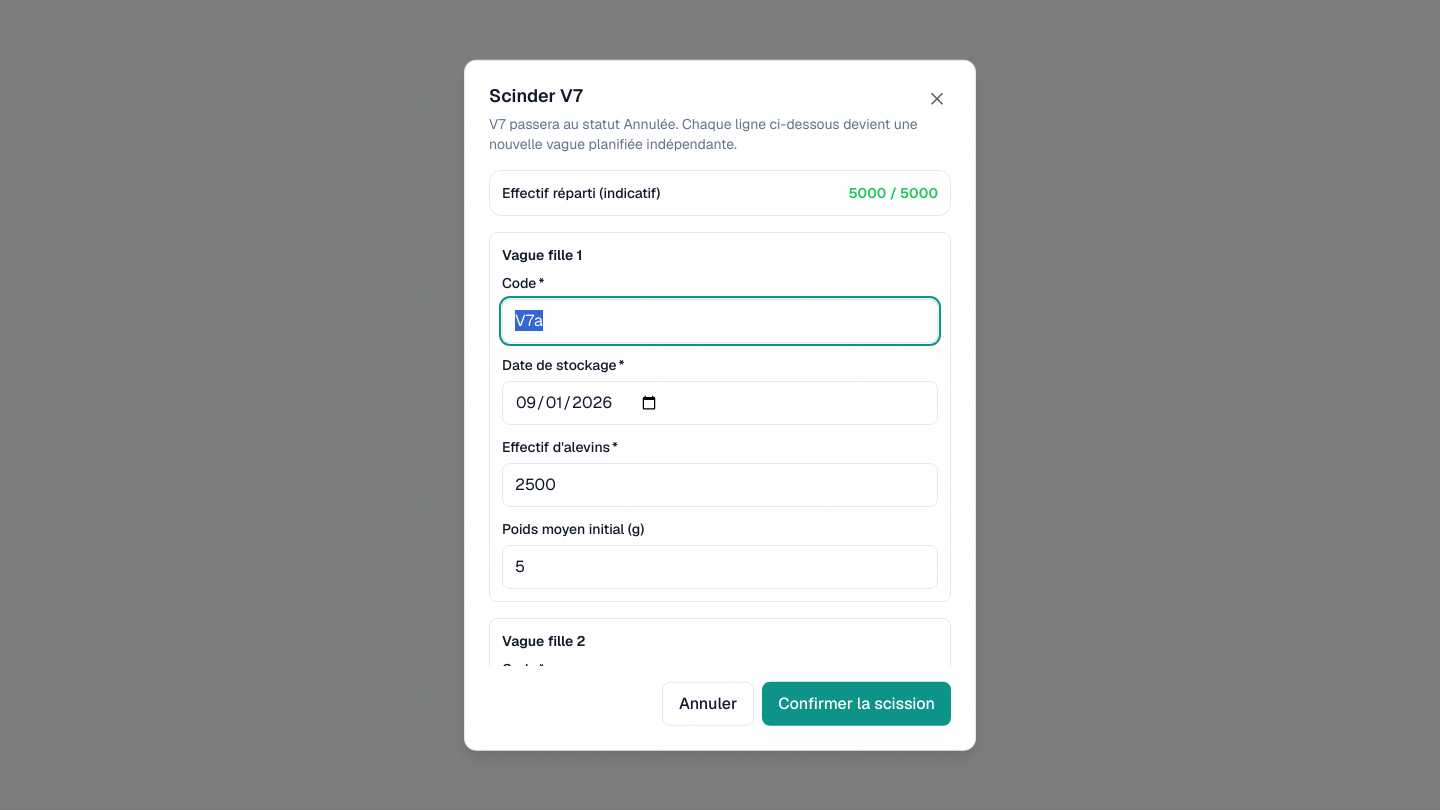
Test: ScissionDialog — validation des champs requis avant soumission › vider la date de stockage d'une ligne désactive le bouton de confirmation
Clear the date field labelled "Date de stockage*" at (720, 402), box [502,380,938,424]
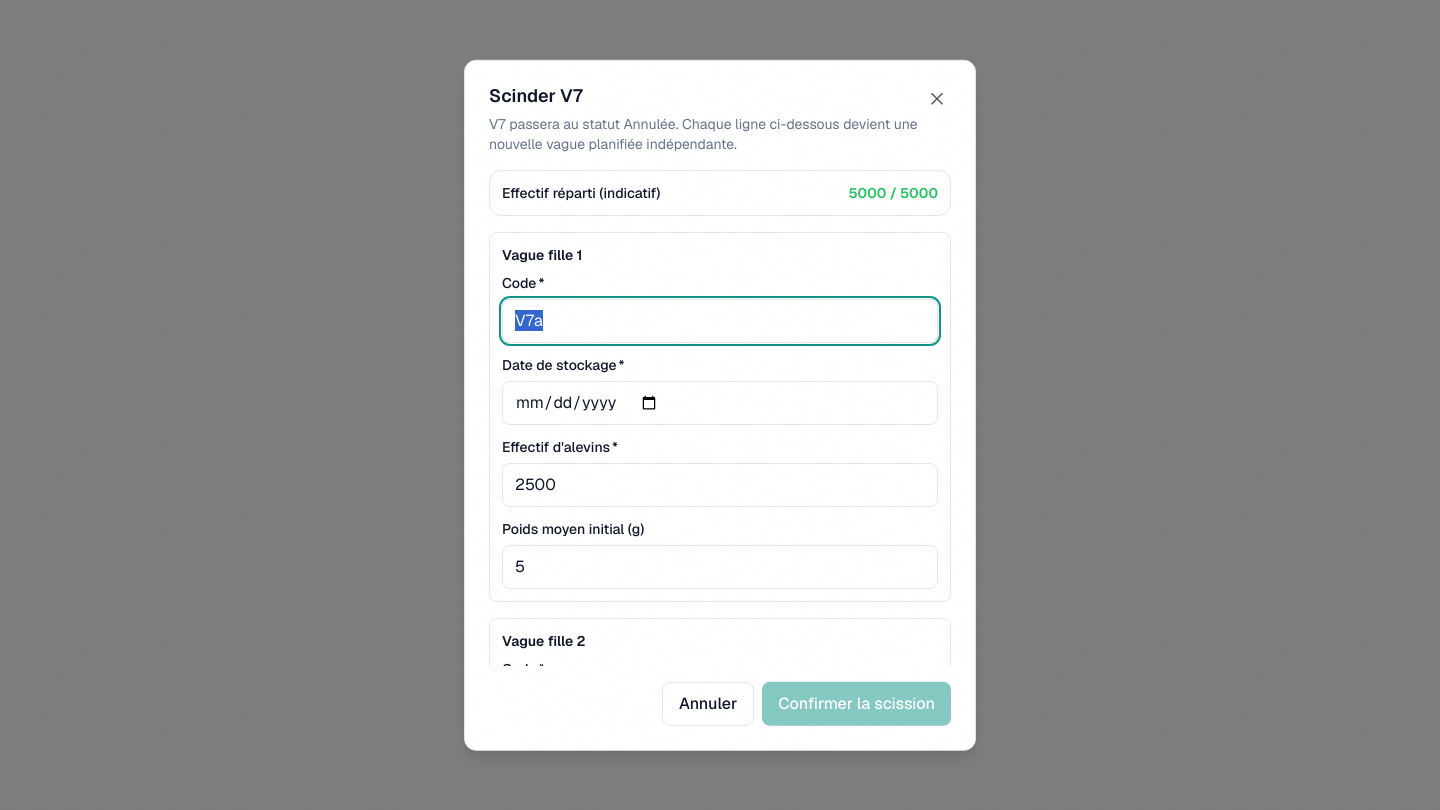
Now the button "Confirmer la scission" is disabled, box [762,681,951,725]
